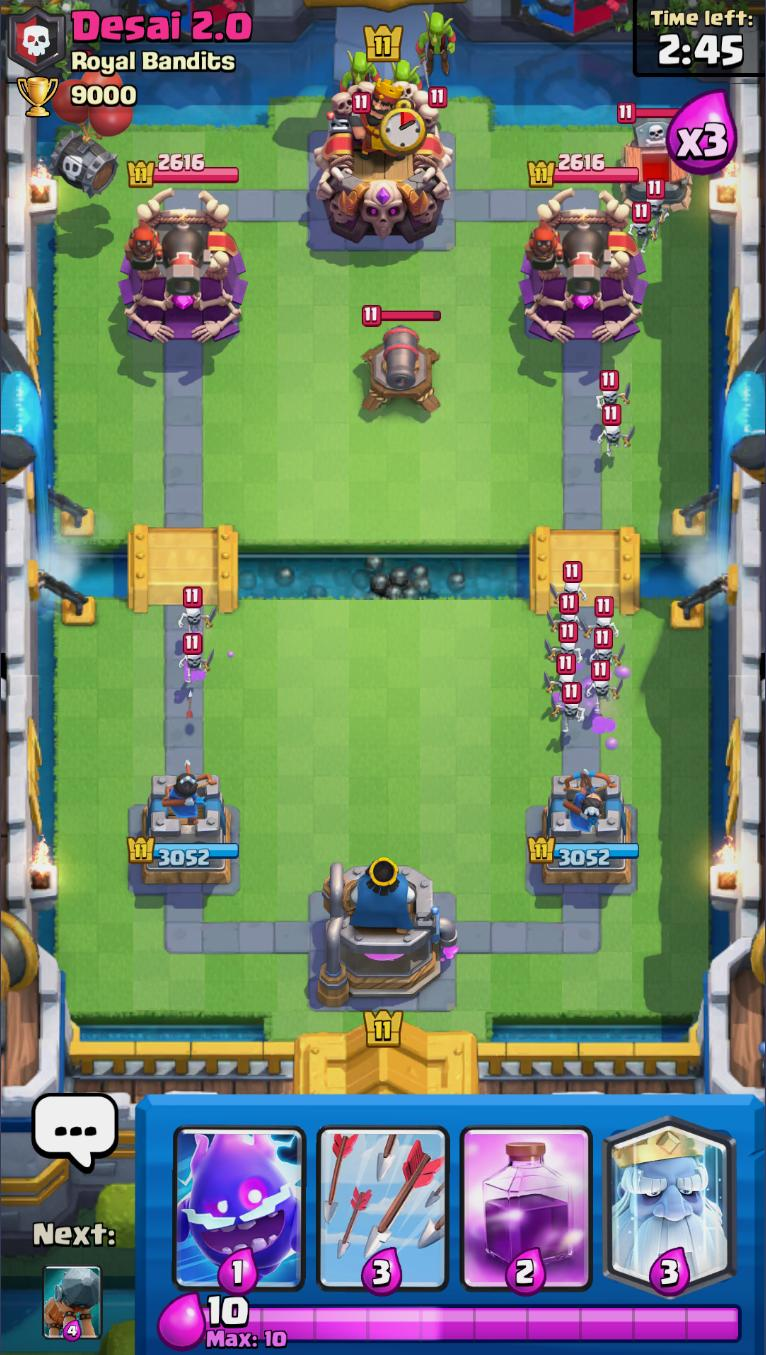ArrowDeck: (311, 1099, 454, 1293)
BattleRamNext: (41, 1263, 103, 1340)
Cannon: (360, 303, 443, 420)
Cannoneer: (524, 211, 610, 296), (124, 211, 207, 297)
ElectroSpiritDeck: (171, 1099, 310, 1294)
Elixir: (201, 1294, 746, 1349)
EnemyTower: (517, 184, 650, 344), (117, 187, 249, 343)
Goblin: (413, 11, 461, 106), (339, 50, 380, 116), (386, 56, 426, 90)
KingTower: (311, 77, 457, 246)
MyKingTower: (314, 857, 460, 1004)
MyPrincessTower: (527, 769, 643, 891), (126, 770, 241, 890)
MyPrincessTowerHP: (524, 831, 643, 871), (126, 831, 240, 870)
RageDeck: (454, 1099, 600, 1293)
RoyaleGhostDeck: (600, 1097, 740, 1293)
Skeleton: (175, 633, 218, 688), (597, 403, 637, 459), (174, 586, 219, 635), (547, 680, 584, 734), (584, 660, 622, 711), (637, 177, 673, 229), (581, 596, 621, 641), (584, 629, 626, 670), (627, 201, 661, 251), (541, 653, 582, 694), (549, 561, 584, 606), (547, 591, 581, 637), (596, 371, 633, 413), (546, 618, 583, 655)
SkeletonBarrel: (49, 69, 134, 200)
Tombstone: (614, 101, 693, 214)
TowerPrincessHP: (526, 151, 641, 190), (124, 151, 240, 187)
